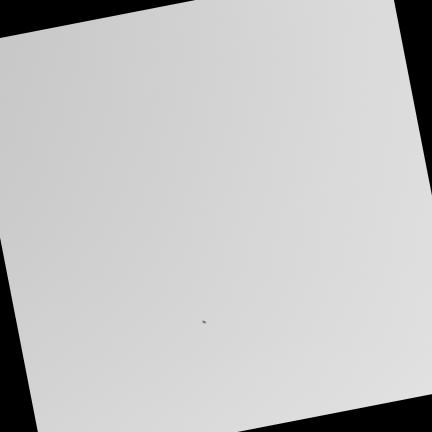Shahed: (202, 320, 206, 323)
